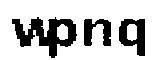n: (80, 15, 113, 50)
p: (49, 16, 78, 59)
q: (117, 17, 149, 60)
w: (7, 14, 51, 49)
